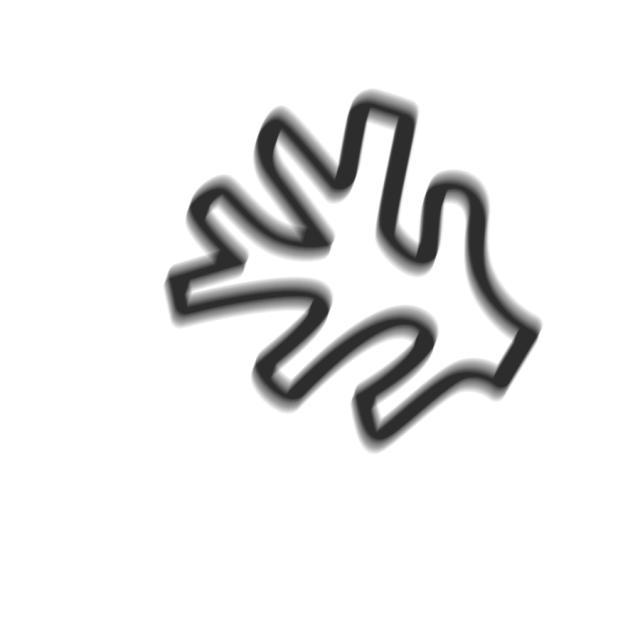coral: (156, 84, 551, 463)
